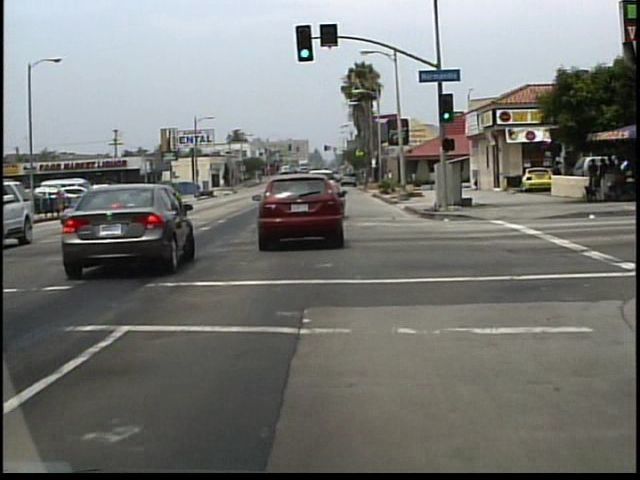person: (548, 159, 565, 198)
